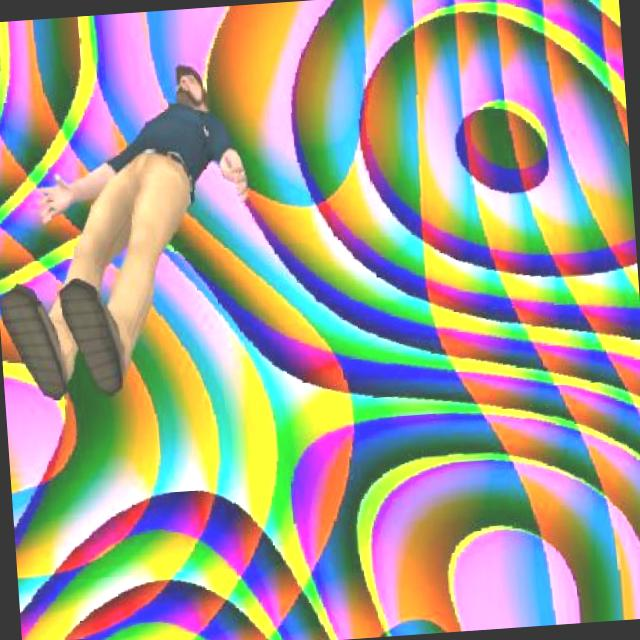Person: (0, 53, 262, 409)
